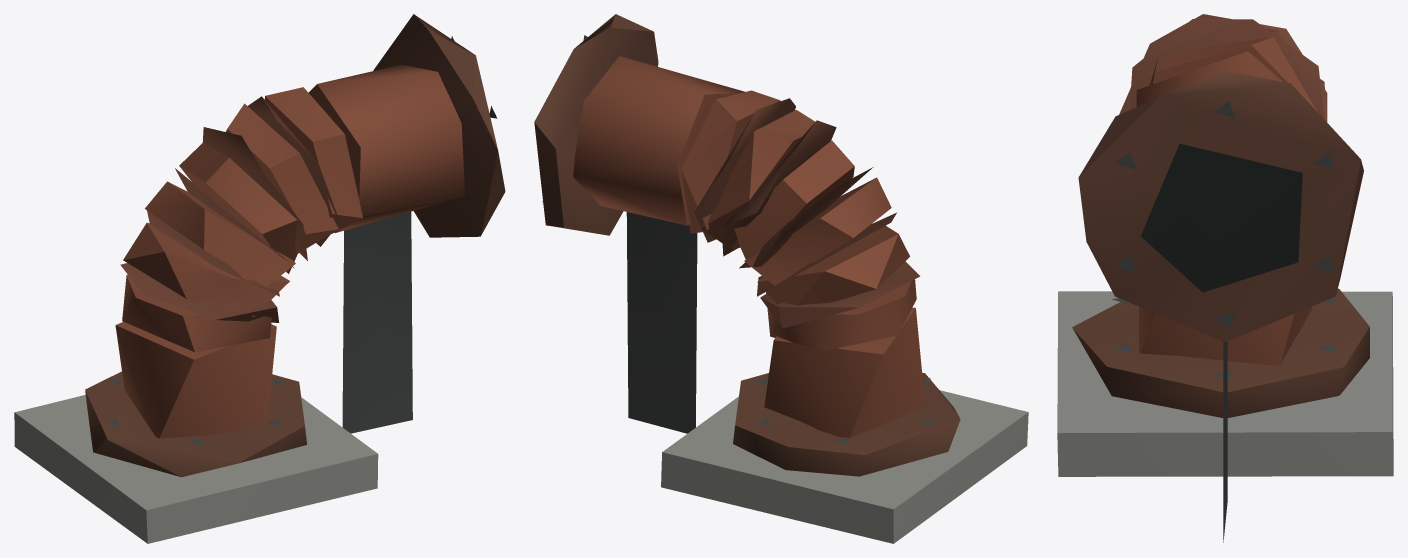
Rendered from pump_elbow_a_lod2.glb.
3 views of the same model, side by side, from view 1: azimuth 30°, elevation 25°; view 2: azimuth 150°, elevation 25°; view 3: azimuth 270°, elevation 25° (orthographic). The views are drawn at different scales.
Parts seen in each view (by area): view 1: Surface.001; view 2: Surface.001; view 3: Surface.001.
Part boxes in pixels (x1=…): Surface.001: x1=14, y1=14, x2=505, y2=543; Surface.001: x1=534, y1=14, x2=1028, y2=543; Surface.001: x1=1057, y1=14, x2=1393, y2=542.
Bounding box in the file's own units: 3.53 × 3.44 × 2.17.
